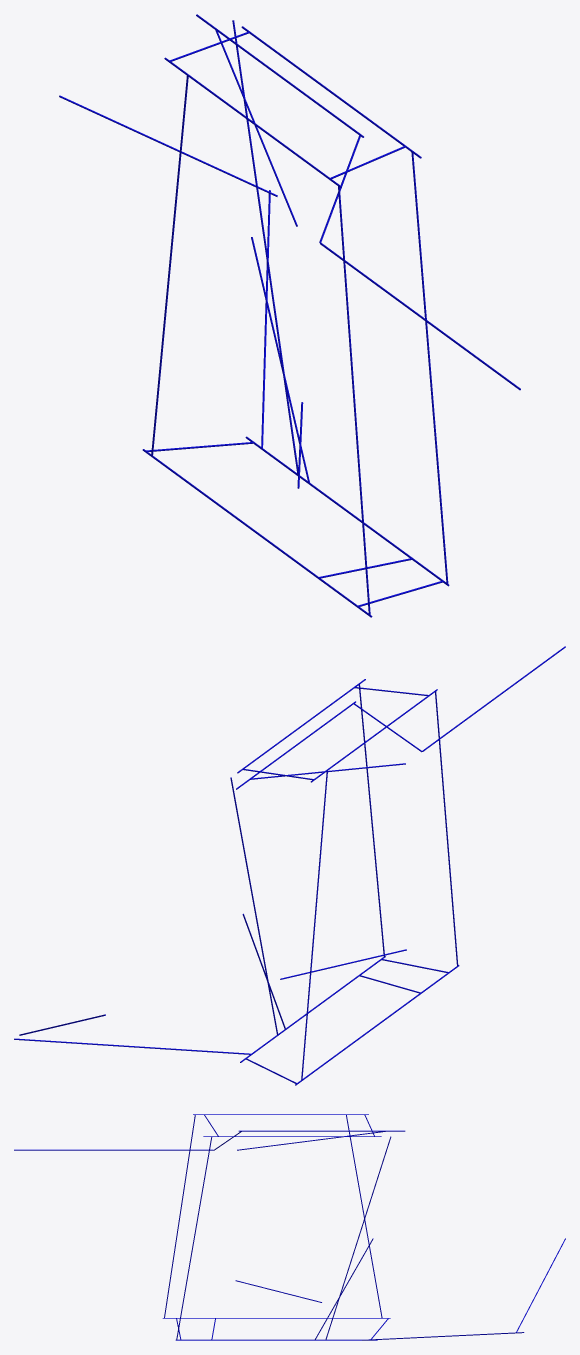
The model's file is corrected_3d_strokes.glb.
3 views of the same model, one above another, from view 1: azimuth 30°, elevation 25°; view 2: azimuth 150°, elevation 25°; view 3: azimuth 270°, elevation 25° (orthographic). The views are drawn at different scales.
Parts seen in each view (by area): view 1: world; view 2: world; view 3: world.
Part boxes in pixels (<box>): world: <box>59,14,520,617</box>; world: <box>14,646,565,1085</box>; world: <box>14,1114,565,1340</box>.
Size of the model in its own units: 6.05 by 9.05 by 22.13.
